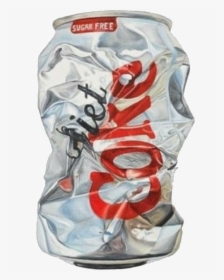can: (33, 9, 197, 268)
